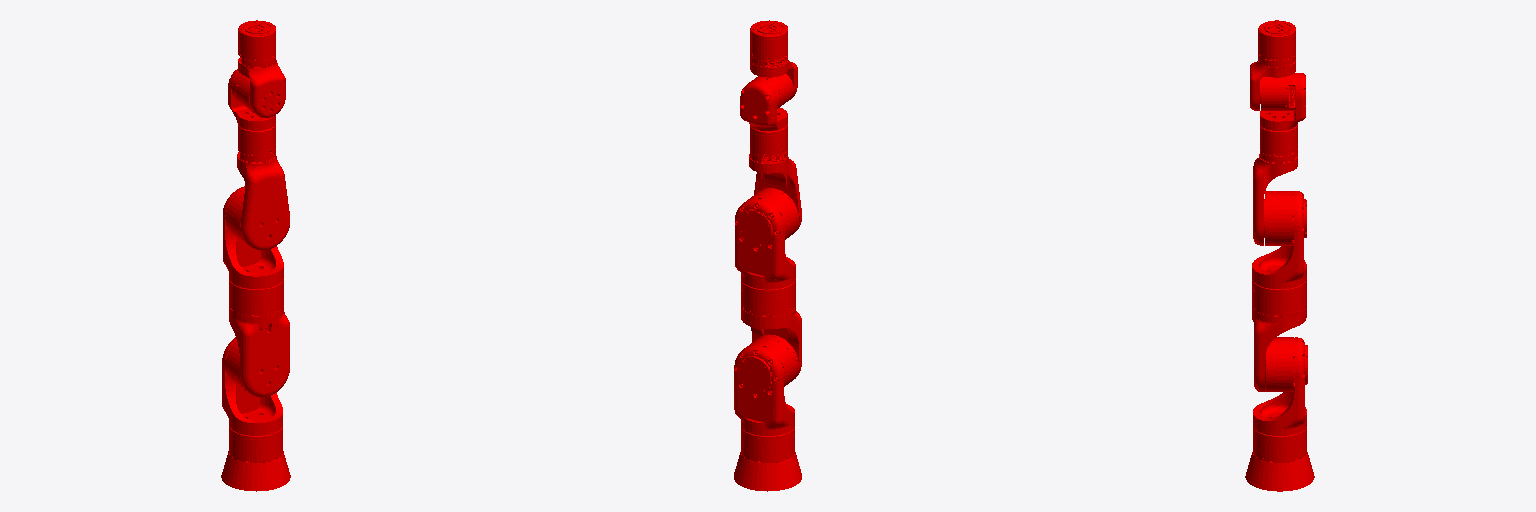
robot.urdf — arm_7dof:
<?xml version="1.0" encoding="utf-8"?>
<!-- This URDF was automatically created by SolidWorks to URDF Exporter! Originally created by Stephen Brawner (brawner@gmail.com) 
     Commit Version: 1.6.0-4-g7f85cfe  Build Version: 1.6.7995.38578
     For more information, please see http://wiki.ros.org/sw_urdf_exporter -->
<robot
  name="arm_7dof">
  <link
    name="base">
    <inertial>
      <origin
        xyz="-3.2178E-06 -2.09E-05 0.022597"
        rpy="0 0 0" />
      <mass
        value="0.65923" />
      <inertia
        ixx="0.00043109"
        ixy="-6.9541E-07"
        ixz="-1.6137E-08"
        iyy="0.00043149"
        iyz="5.9385E-08"
        izz="0.00073419" />
    </inertial>
    <visual>
      <origin
        xyz="0 0 0"
        rpy="0 0 0" />
      <geometry>
        <mesh
          filename="package://arm_7dof/meshes/base.STL" />
      </geometry>
      <material
        name="">
        <color
          rgba="1 0 0 1" />
      </material>
    </visual>
    <collision>
      <origin
        xyz="0 0 0"
        rpy="0 0 0" />
      <geometry>
        <mesh
          filename="package://arm_7dof/meshes/base.STL" />
      </geometry>
    </collision>
  </link>
  <link
    name="link_1">
    <inertial>
      <origin
        xyz="-1.82377877434675E-05 0.0129944653163006 0.0441193534581318"
        rpy="0 0 0" />
      <mass
        value="0.528941854499182" />
      <inertia
        ixx="0.00066410215115421"
        ixy="-5.70888565316991E-08"
        ixz="3.09980746935561E-08"
        iyy="0.000789709987007945"
        iyz="-0.000132977482088879"
        izz="0.000460762745541137" />
    </inertial>
    <visual>
      <origin
        xyz="0 0 0"
        rpy="0 0 0" />
      <geometry>
        <mesh
          filename="package://arm_7dof/meshes/link_1.STL" />
      </geometry>
      <material
        name="">
        <color
          rgba="1 0 0 1" />
      </material>
    </visual>
    <collision>
      <origin
        xyz="0 0 0"
        rpy="0 0 0" />
      <geometry>
        <mesh
          filename="package://arm_7dof/meshes/link_1.STL" />
      </geometry>
    </collision>
  </link>
  <joint
    name="joint_1"
    type="revolute">
    <origin
      xyz="0 0 0.0885"
      rpy="0 0 0" />
    <parent
      link="base" />
    <child
      link="link_1" />
    <axis
      xyz="0 0 -1" />
    <limit
      lower="-3.14159"
      upper="3.14159"
      effort="10"
      velocity="1.0" />
  </joint>
  <link
    name="link_2">
    <inertial>
      <origin
        xyz="-2.14043772963508E-05 0.0101239896926122 0.0576082322300047"
        rpy="0 0 0" />
      <mass
        value="0.538245095735732" />
      <inertia
        ixx="0.000778571477215432"
        ixy="3.34854223904746E-07"
        ixz="3.45696372513002E-08"
        iyy="0.00088159538647754"
        iyz="-0.000150430754908417"
        izz="0.000477824790628372" />
    </inertial>
    <visual>
      <origin
        xyz="0 0 0"
        rpy="0 0 0" />
      <geometry>
        <mesh
          filename="package://arm_7dof/meshes/link_2.STL" />
      </geometry>
      <material
        name="">
        <color
          rgba="1 0 0 1" />
      </material>
    </visual>
    <collision>
      <origin
        xyz="0 0 0"
        rpy="0 0 0" />
      <geometry>
        <mesh
          filename="package://arm_7dof/meshes/link_2.STL" />
      </geometry>
    </collision>
  </link>
  <joint
    name="joint_2"
    type="revolute">
    <origin
      xyz="0 -0.02725 0.09"
      rpy="0 0 0" />
    <parent
      link="link_1" />
    <child
      link="link_2" />
    <axis
      xyz="0 1 0" />
    <limit
      lower="-1.5708"
      upper="1.5708"
      effort="10"
      velocity="1.0" />
  </joint>
  <link
    name="link_3">
    <inertial>
      <origin
        xyz="1.1841E-05 0.012994 0.044124"
        rpy="0 0 0" />
      <mass
        value="0.52894" />
      <inertia
        ixx="0.00066279"
        ixy="4.3804E-09"
        ixz="-4.2662E-07"
        iyy="0.00078971"
        iyz="-0.00013294"
        izz="0.00046208" />
    </inertial>
    <visual>
      <origin
        xyz="0 0 0"
        rpy="0 0 0" />
      <geometry>
        <mesh
          filename="package://arm_7dof/meshes/link_3.STL" />
      </geometry>
      <material
        name="">
        <color
          rgba="1 0 0 1" />
      </material>
    </visual>
    <collision>
      <origin
        xyz="0 0 0"
        rpy="0 0 0" />
      <geometry>
        <mesh
          filename="package://arm_7dof/meshes/link_3.STL" />
      </geometry>
    </collision>
  </link>
  <joint
    name="joint_3"
    type="revolute">
    <origin
      xyz="0 0.02625 0.1435"
      rpy="0 0 0" />
    <parent
      link="link_2" />
    <child
      link="link_3" />
    <axis
      xyz="0 0 -1" />
    <limit
      lower="-3.14159"
      upper="3.14159"
      effort="10"
      velocity="1.0" />
  </joint>
  <link
    name="link_4">
    <inertial>
      <origin
        xyz="5.87451432146151E-06 0.00598852027395125 0.048100513169153"
        rpy="0 0 0" />
      <mass
        value="0.431336805680094" />
      <inertia
        ixx="0.000780605285635534"
        ixy="-4.11101203256496E-08"
        ixz="1.71865537987226E-09"
        iyy="0.000828887847207372"
        iyz="-0.000156167772319584"
        izz="0.00023540917706142" />
    </inertial>
    <visual>
      <origin
        xyz="0 0 0"
        rpy="0 0 0" />
      <geometry>
        <mesh
          filename="package://arm_7dof/meshes/link_4.STL" />
      </geometry>
      <material
        name="">
        <color
          rgba="1 0 0 1" />
      </material>
    </visual>
    <collision>
      <origin
        xyz="0 0 0"
        rpy="0 0 0" />
      <geometry>
        <mesh
          filename="package://arm_7dof/meshes/link_4.STL" />
      </geometry>
    </collision>
  </link>
  <joint
    name="joint_4"
    type="revolute">
    <origin
      xyz="0 -0.02725 0.09"
      rpy="0 0 0" />
    <parent
      link="link_3" />
    <child
      link="link_4" />
    <axis
      xyz="0 1 0" />
    <limit
      lower="-1.5708"
      upper="1.5708"
      effort="10"
      velocity="1.0" />
  </joint>
  <link
    name="link_5">
    <inertial>
      <origin
        xyz="-1.53532717265699E-05 0.0185980181543087 0.0270381584984817"
        rpy="0 0 0" />
      <mass
        value="0.220387588026433" />
      <inertia
        ixx="0.000176236268492183"
        ixy="-2.6848760800225E-10"
        ixz="8.1094679889727E-09"
        iyy="0.000148241497419061"
        iyz="-5.68506485393308E-05"
        izz="0.000118201524453919" />
    </inertial>
    <visual>
      <origin
        xyz="0 0 0"
        rpy="0 0 0" />
      <geometry>
        <mesh
          filename="package://arm_7dof/meshes/link_5.STL" />
      </geometry>
      <material
        name="">
        <color
          rgba="1 0 0 1" />
      </material>
    </visual>
    <collision>
      <origin
        xyz="0 0 0"
        rpy="0 0 0" />
      <geometry>
        <mesh
          filename="package://arm_7dof/meshes/link_5.STL" />
      </geometry>
    </collision>
  </link>
  <joint
    name="joint_5"
    type="revolute">
    <origin
      xyz="0 0.02625 0.15155"
      rpy="0 0 0" />
    <parent
      link="link_4" />
    <child
      link="link_5" />
    <axis
      xyz="0 0 -1" />
    <limit
      lower="-3.14159"
      upper="3.14159"
      effort="10"
      velocity="1.0" />
  </joint>
  <link
    name="link_6">
    <inertial>
      <origin
        xyz="1.27403873606402E-05 0.00685589014778281 0.023979883685738"
        rpy="0 0 0" />
      <mass
        value="0.21900757450898" />
      <inertia
        ixx="0.000173087451655469"
        ixy="-3.91528920845921E-08"
        ixz="7.73738263444336E-11"
        iyy="0.000145976238595278"
        iyz="-5.58546260893938E-05"
        izz="0.000117016605809947" />
    </inertial>
    <visual>
      <origin
        xyz="0 0 0"
        rpy="0 0 0" />
      <geometry>
        <mesh
          filename="package://arm_7dof/meshes/link_6.STL" />
      </geometry>
      <material
        name="">
        <color
          rgba="1 0 0 1" />
      </material>
    </visual>
    <collision>
      <origin
        xyz="0 0 0"
        rpy="0 0 0" />
      <geometry>
        <mesh
          filename="package://arm_7dof/meshes/link_6.STL" />
      </geometry>
    </collision>
  </link>
  <joint
    name="joint_6"
    type="revolute">
    <origin
      xyz="0 -0.027 0.05"
      rpy="0 0 0" />
    <parent
      link="link_5" />
    <child
      link="link_6" />
    <axis
      xyz="0 1 0" />
    <limit
      lower="-1.5708"
      upper="1.5708"
      effort="10"
      velocity="1.0" />
  </joint>
  <link
    name="link_7">
    <inertial>
      <origin
        xyz="-4.8335E-06 0.0018221 -0.43596"
        rpy="0 0 0" />
      <mass
        value="3.1261" />
      <inertia
        ixx="0.12914"
        ixy="-4.9793E-07"
        ixz="-3.3356E-06"
        iyy="0.12865"
        iyz="0.0017053"
        izz="0.00345" />
    </inertial>
    <visual>
      <origin
        xyz="0 0 0"
        rpy="0 0 0" />
      <geometry>
        <mesh
          filename="package://arm_7dof/meshes/link_7.STL" />
      </geometry>
      <material
        name="">
        <color
          rgba="1 0 0 1" />
      </material>
    </visual>
    <collision>
      <origin
        xyz="0 0 0"
        rpy="0 0 0" />
      <geometry>
        <mesh
          filename="package://arm_7dof/meshes/link_7.STL" />
      </geometry>
    </collision>
  </link>
  <joint
    name="joint_7"
    type="revolute">
    <origin
      xyz="0 0.025 0.102"
      rpy="0 0 0" />
    <parent
      link="link_6" />
    <child
      link="link_7" />
    <axis
      xyz="0 0 -1" />
    <limit
      lower="-3.14159"
      upper="3.14159"
      effort="10"
      velocity="1.0" />
  </joint>
</robot>

--- What the picture shows (computed from the rendered views, not written in the file) ---
3 views of the same robot in one strip: view 1: azimuth 30°, elevation 25°; view 2: azimuth 150°, elevation 25°; view 3: azimuth 270°, elevation 25° (orthographic).
Model arm_7dof with 8 links and 7 joints (7 revolute), rooted at base, posed all joints at 0.
Links seen in each view (by area): view 1: link_2, link_4, link_6, base, link_3, link_1, link_5; view 2: link_1, link_3, base, link_2, link_4, link_5, link_6; view 3: link_3, link_1, base, link_2, link_4, link_6, link_5.
Link boxes in pixels (<box>): link_2: <box>229,279,289,396</box>; link_4: <box>237,124,289,250</box>; link_6: <box>238,20,285,117</box>; base: <box>221,427,290,491</box>; link_3: <box>223,186,283,288</box>; link_1: <box>222,337,282,435</box>; link_5: <box>228,69,275,130</box>; link_1: <box>734,334,798,435</box>; link_3: <box>735,188,798,289</box>; base: <box>734,427,801,491</box>; link_2: <box>741,279,801,378</box>; link_4: <box>749,124,801,231</box>; link_5: <box>740,74,793,130</box>; link_6: <box>750,20,797,99</box>; link_3: <box>1252,191,1306,288</box>; link_1: <box>1253,337,1307,435</box>; base: <box>1245,427,1314,491</box>; link_2: <box>1252,279,1306,391</box>; link_4: <box>1253,124,1297,245</box>; link_6: <box>1250,20,1295,110</box>; link_5: <box>1260,73,1305,130</box>.
Bounding box of the posed robot: 0.0997 × 0.1 × 0.7175 m (x, y, z).
7 mesh visuals loaded from 8 distinct referenced files (7 binary STL); not drawn: 1 (file found but could not be loaded).
